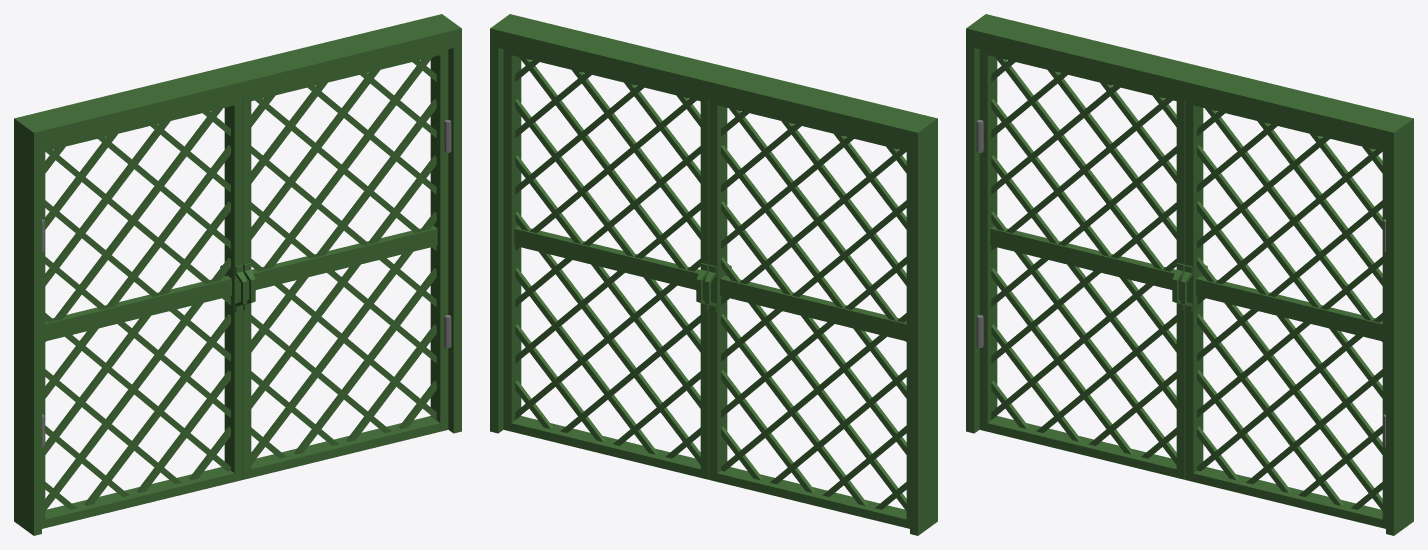
Rendered from M_Fence01_2.fbx.
The picture shows the model from 3 angles, left to right: view 1: azimuth 30°, elevation 25°; view 2: azimuth 150°, elevation 25°; view 3: azimuth 330°, elevation 25°; orthographic projection.
Visible parts, largest first — view 1: M_FenceDoor02, M_FenceDoor01, M_Fence01_2; view 2: M_FenceDoor02, M_FenceDoor01, M_Fence01_2; view 3: M_FenceDoor01, M_FenceDoor02, M_Fence01_2.
Boxes of the visible parts, <box> form: M_FenceDoor02: <box>242,49,451,479</box>; M_FenceDoor01: <box>42,99,247,528</box>; M_Fence01_2: <box>14,14,461,535</box>; M_FenceDoor02: <box>503,49,709,479</box>; M_FenceDoor01: <box>704,99,909,528</box>; M_Fence01_2: <box>490,14,937,535</box>; M_FenceDoor01: <box>976,49,1185,479</box>; M_FenceDoor02: <box>1180,99,1385,528</box>; M_Fence01_2: <box>966,14,1413,535</box>.
Size of what is drawn, in the model's own units: 250 by 22.7 by 225.
